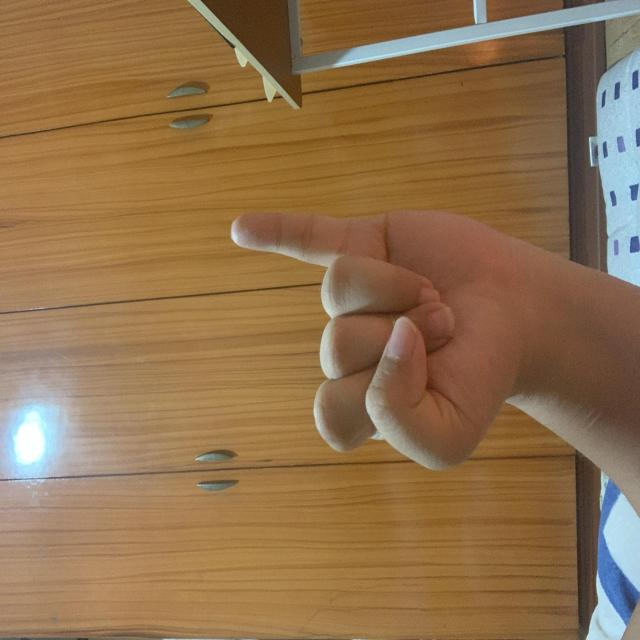I: (208, 230, 474, 524)
